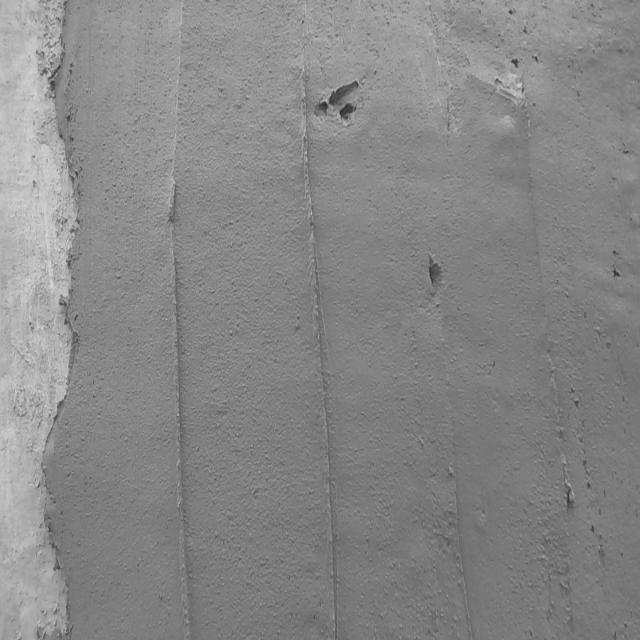trowels marks: (298, 85, 342, 640), (166, 162, 200, 640), (449, 436, 472, 640)
